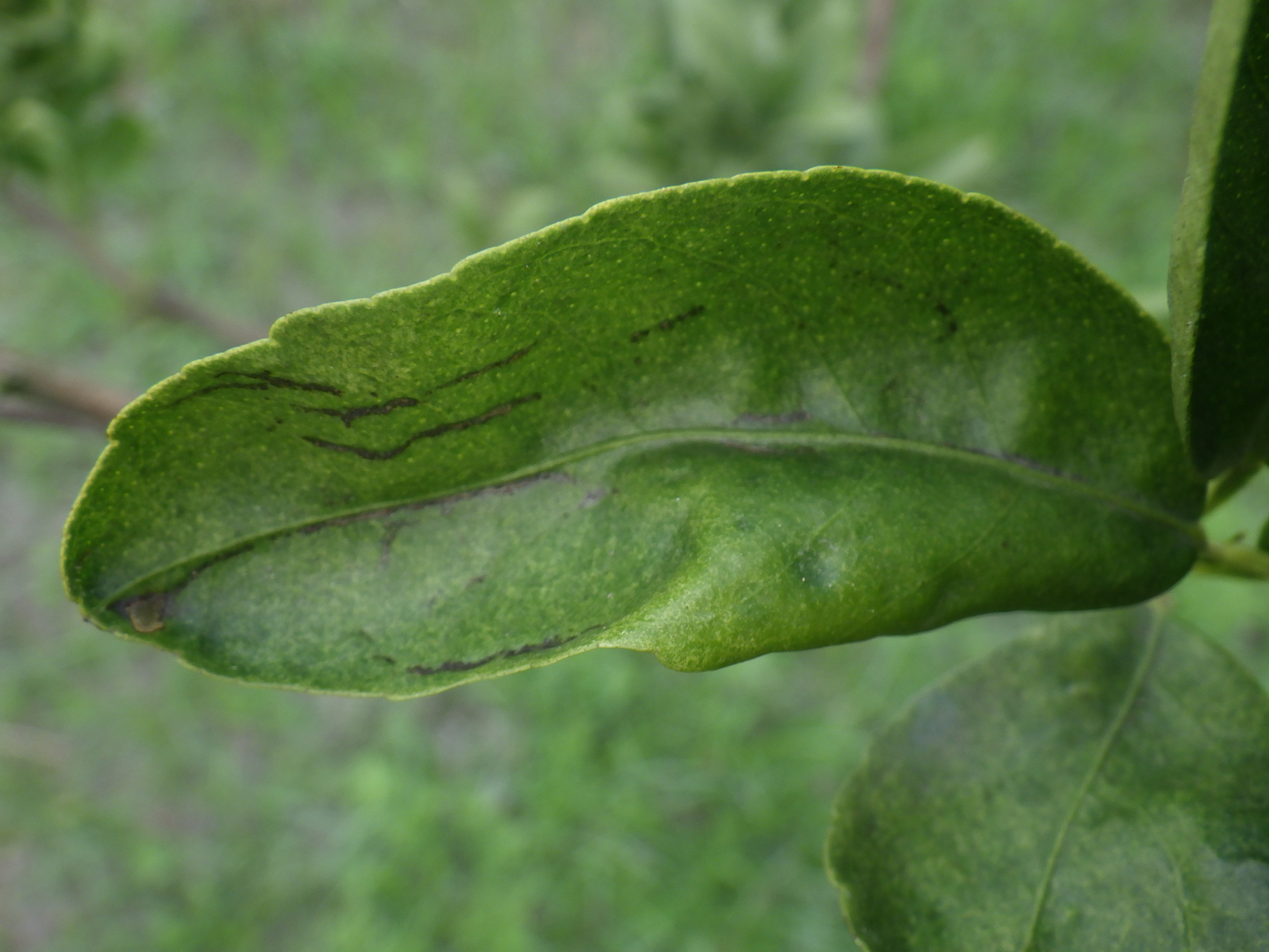Thrips_Damage: (190, 343, 578, 673)
